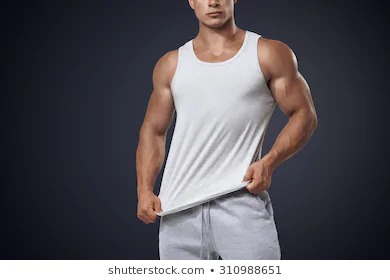C_tank top: (150, 27, 277, 216)
